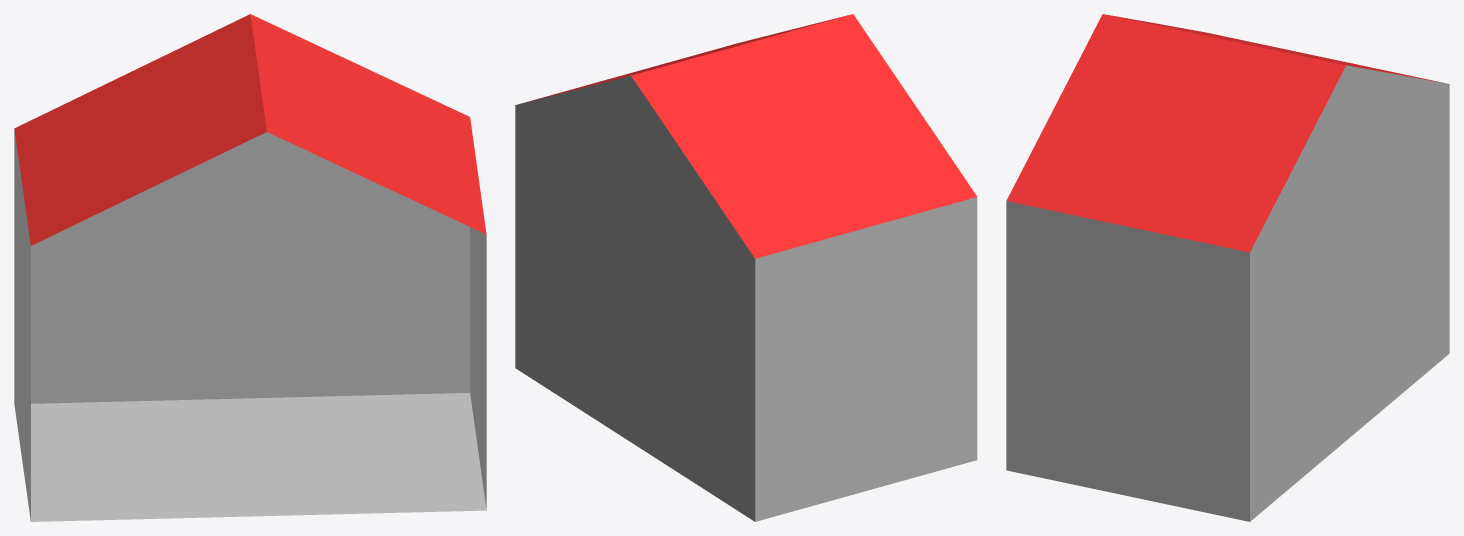
File: pb-b963ae6b-7f57-11f0-a7a2-9c7bef4dcf4c.dae
3 views of the same model, side by side, from view 1: azimuth 30°, elevation 25°; view 2: azimuth 150°, elevation 25°; view 3: azimuth 270°, elevation 25° (orthographic). The views are drawn at different scales.
Size of the model in its own units: 10.51 by 8.95 by 8.36.
